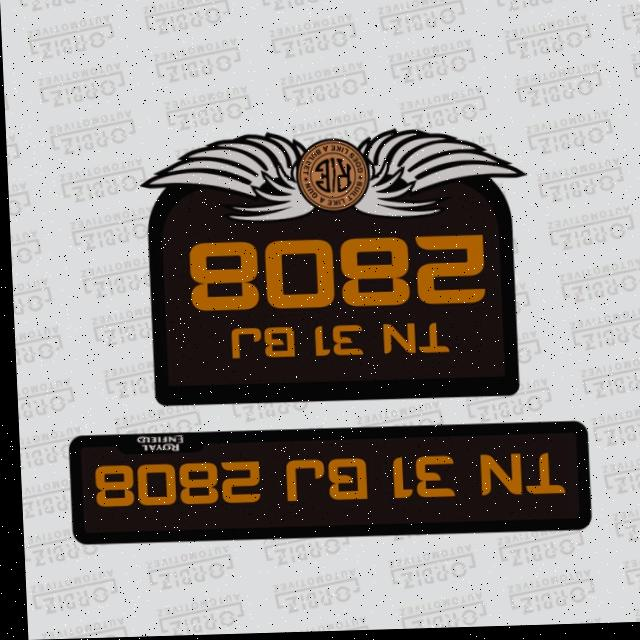plate: (126, 125, 530, 402), (61, 422, 585, 547)
